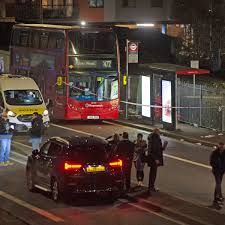bus: (4, 23, 123, 124)
